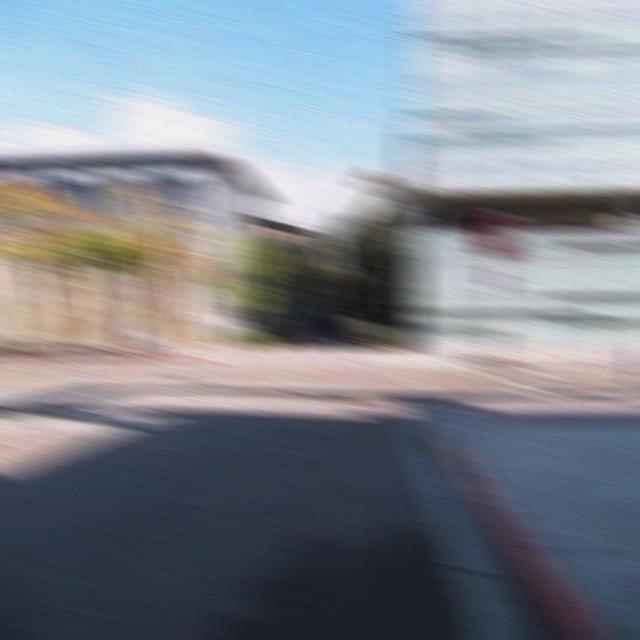stop: (472, 208, 518, 260)
